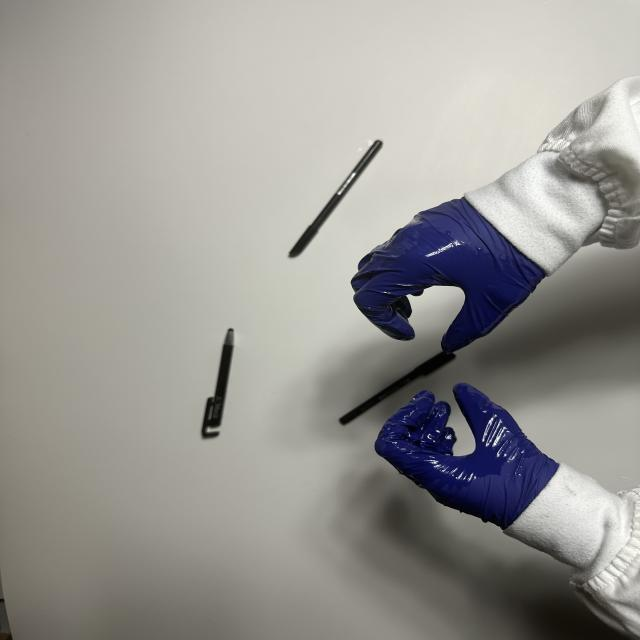gloves_contaminated: (351, 198, 544, 354), (375, 383, 559, 530)
